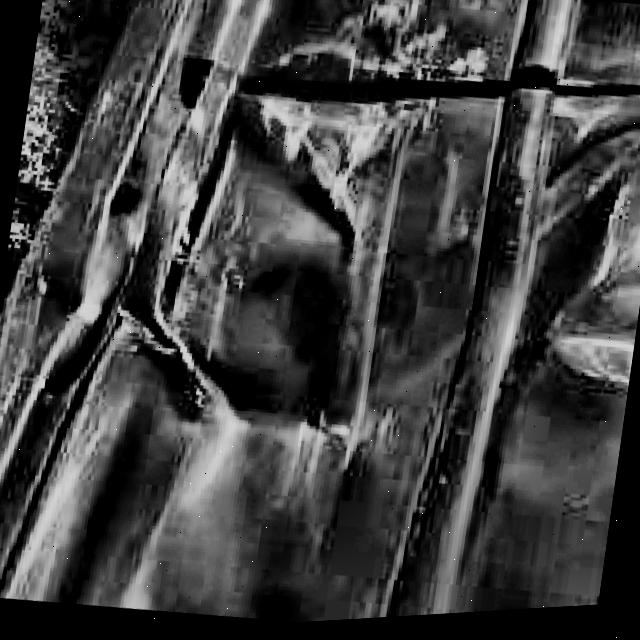door_dent: (86, 0, 640, 491)
door_scratch: (242, 90, 388, 209)
